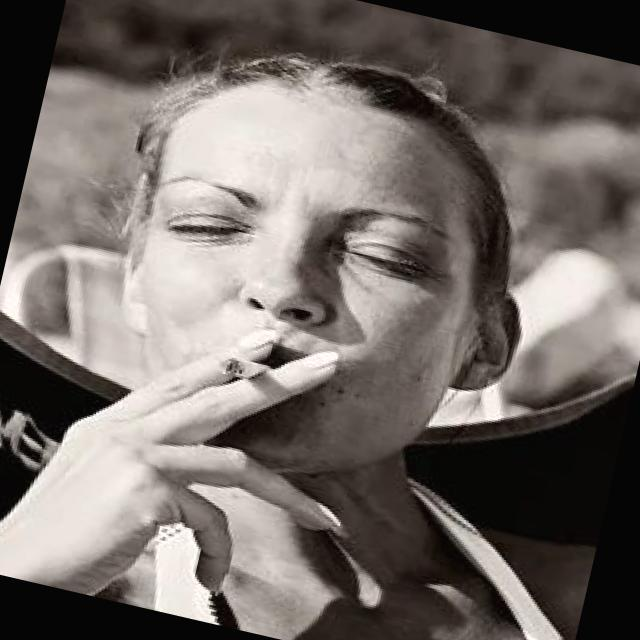cigarette: (208, 347, 286, 391)
